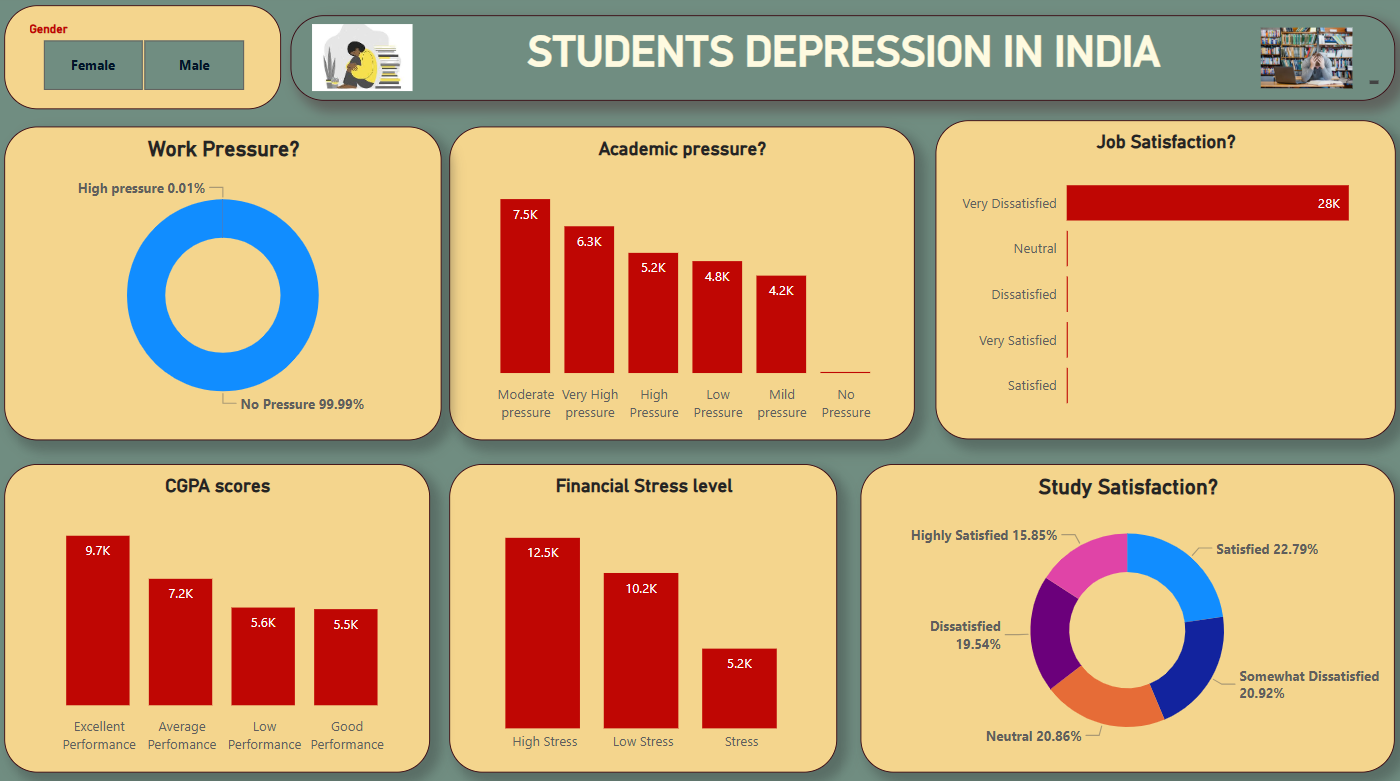

Layout of this report page (visuals, bound fields, positions):
{"tool":"powerbi","page":{"name":"Page 2","canvas":[1280,720],"ordinal":1},"visuals":[{"type":"columnChart","title":"Financial Stress level","fields":{"Y":["student_depression.Student ID"],"Category":["student_depression.Financial Stress level"]},"box":[414,426.7,352.3,280.2],"z":0},{"type":"donutChart","title":"Study Satisfaction?","fields":{"Category":["student_depression.Study Satisfaction?"],"Y":["student_depression.Student ID"]},"box":[787.2,426.7,484.9,280.2],"z":1000},{"type":"clusteredBarChart","title":"Job Satisfaction?","fields":{"Y":["student_depression.Student ID"],"Category":["student_depression.Job Satisfaction?"]},"box":[854.7,115.1,417.4,289.5],"z":2000},{"type":"clusteredColumnChart","title":"Academic pressure?","fields":{"Category":["student_depression.Academic pressure?"],"Y":["student_depression.Student ID"]},"box":[414,119.8,422.1,284.9],"z":3000},{"type":"donutChart","title":"Work Pressure?","fields":{"Category":["student_depression.Work Pressure?"],"Y":["student_depression.Student ID"]},"box":[10.2,120.2,397,284.7],"z":4000},{"type":"columnChart","title":"CGPA scores","fields":{"Category":["student_depression.CGPA scores"],"Y":["student_depression.Student ID"]},"box":[10.5,426.7,386,280.2],"z":5000},{"type":"slicer","fields":{"Values":["student_depression.Gender"]},"box":[10.5,10.5,251.2,94.2],"z":6000},{"type":"textbox","title":"STUDENTS DEPRESSION IN INDIA","box":[269.8,19.8,1002.3,77.9],"z":7000},{"type":"image","box":[284.9,5.8,101.2,104.7],"z":8000},{"type":"image","box":[1145.4,5.8,93,104.7],"z":9000}]}

Visuals, with their boxes in screenshot pixels (x1, y1, x2, y2), scaled from the page's 1280x720 canvas onto the 1400x781 screenshot:
"Financial Stress level" columnChart: bbox=[453, 463, 838, 767]
"Study Satisfaction?" donutChart: bbox=[861, 463, 1391, 767]
"Job Satisfaction?" clusteredBarChart: bbox=[935, 125, 1391, 439]
"Academic pressure?" clusteredColumnChart: bbox=[453, 130, 914, 439]
"Work Pressure?" donutChart: bbox=[11, 130, 445, 439]
"CGPA scores" columnChart: bbox=[11, 463, 434, 767]
slicer - student_depression.Gender: bbox=[11, 11, 286, 114]
"STUDENTS DEPRESSION IN INDIA" textbox: bbox=[295, 21, 1391, 106]
image: bbox=[312, 6, 422, 120]
image: bbox=[1253, 6, 1354, 120]
